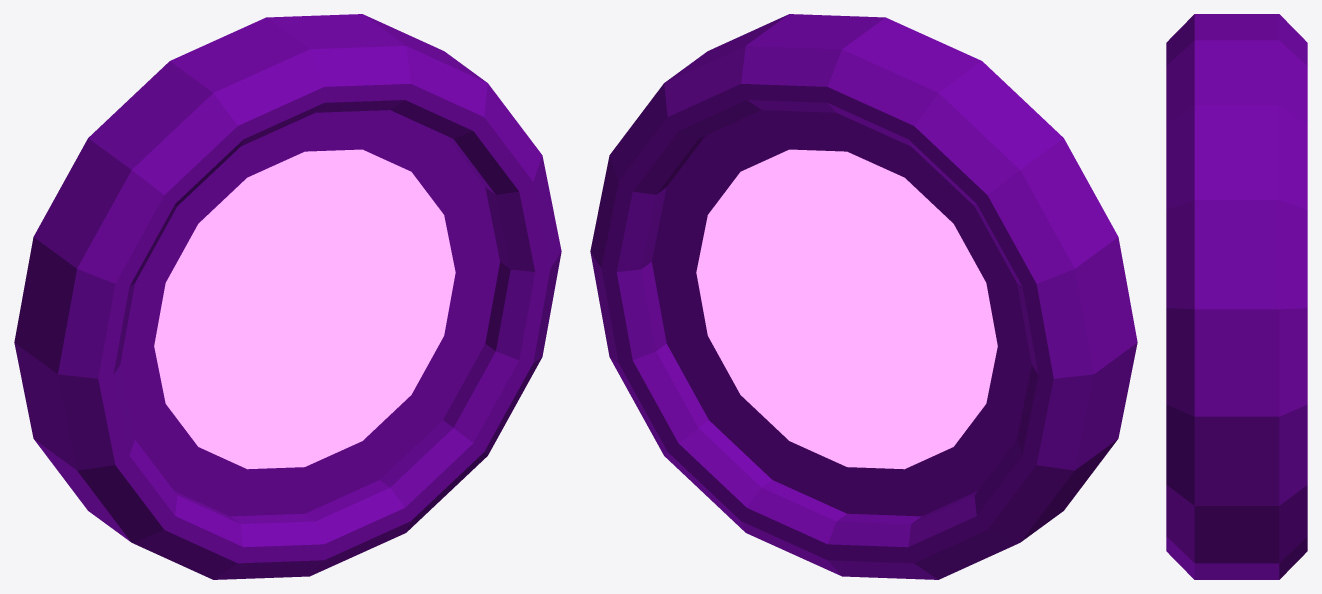
File: coin.fbx
3 renders of one model, left to right at view 1: azimuth 30°, elevation 25°; view 2: azimuth 150°, elevation 25°; view 3: azimuth 270°, elevation 25°, orthographic. The views are drawn at different scales.
Parts seen in each view (by area): view 1: Cylinder; view 2: Cylinder; view 3: Cylinder.
Part boxes in pixels (x1,y1,x2,y2): Cylinder: [14, 14, 561, 579]; Cylinder: [590, 14, 1137, 579]; Cylinder: [1166, 14, 1307, 579].
Size of the model in its own units: 0.4 by 0.4 by 0.1.
